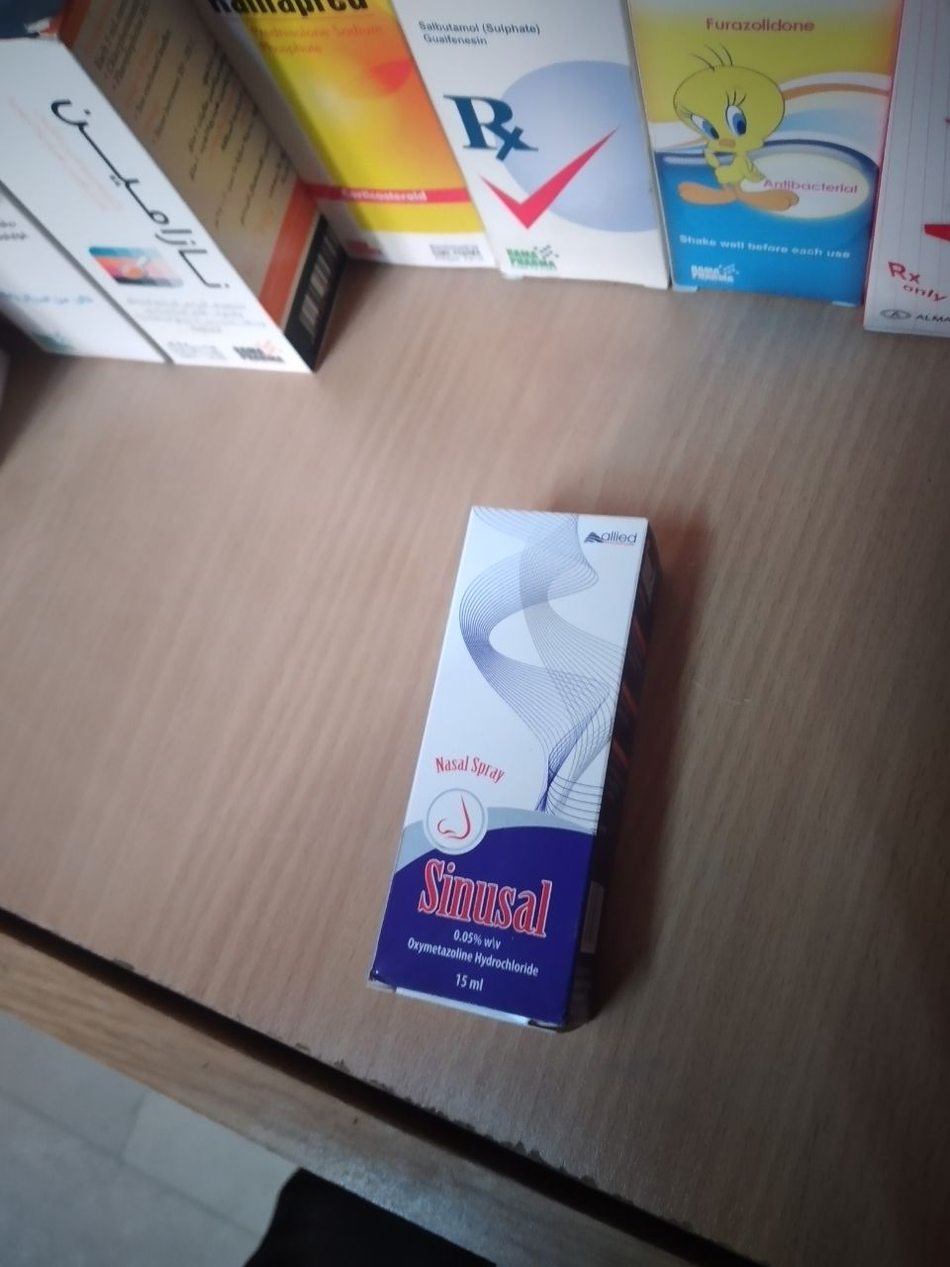Medicine: (366, 498, 676, 1056)
